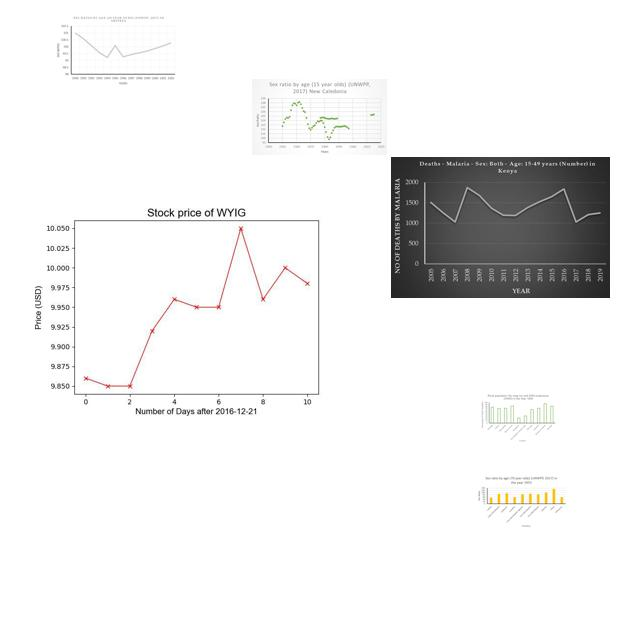Graph: (35, 188, 350, 424), (391, 157, 610, 298), (252, 79, 387, 155), (54, 14, 177, 88), (476, 475, 567, 528), (480, 394, 556, 443)
